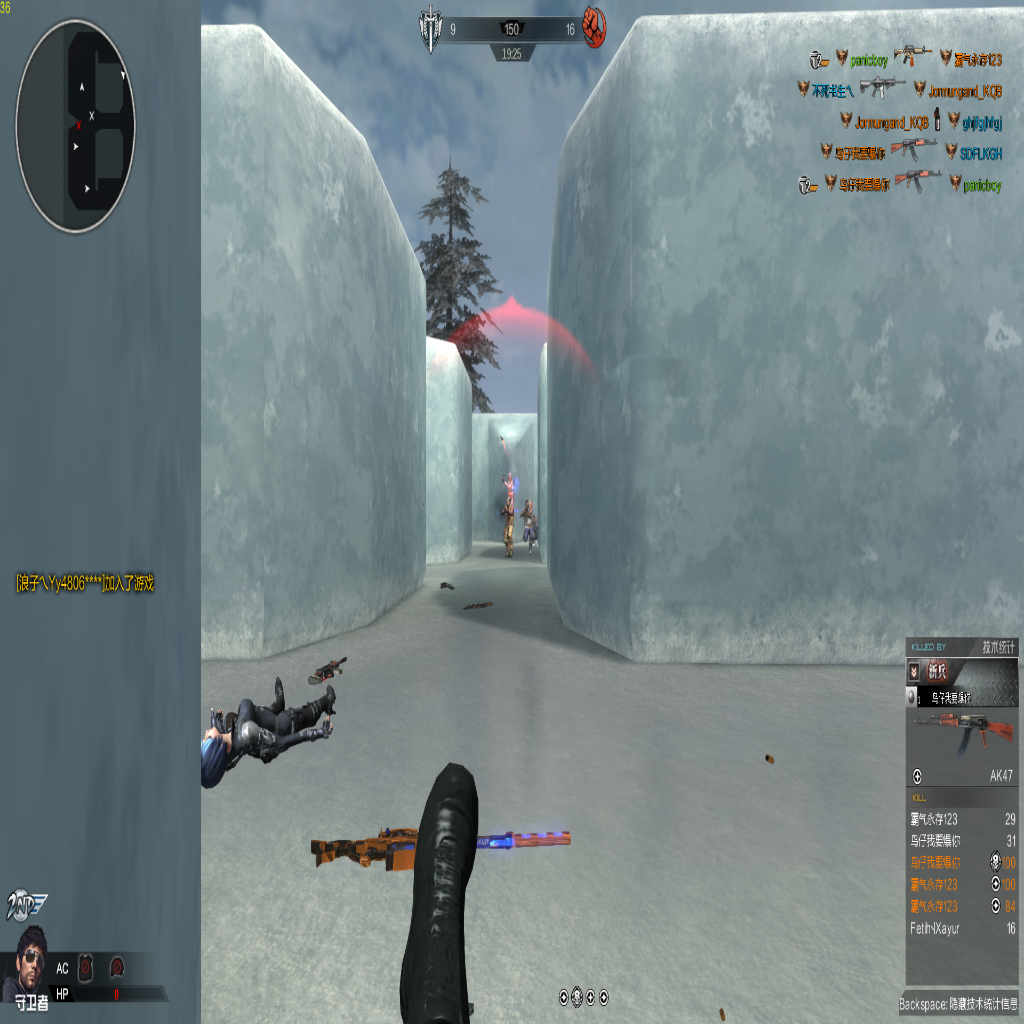tt: (501, 498, 516, 557), (521, 497, 538, 546)
